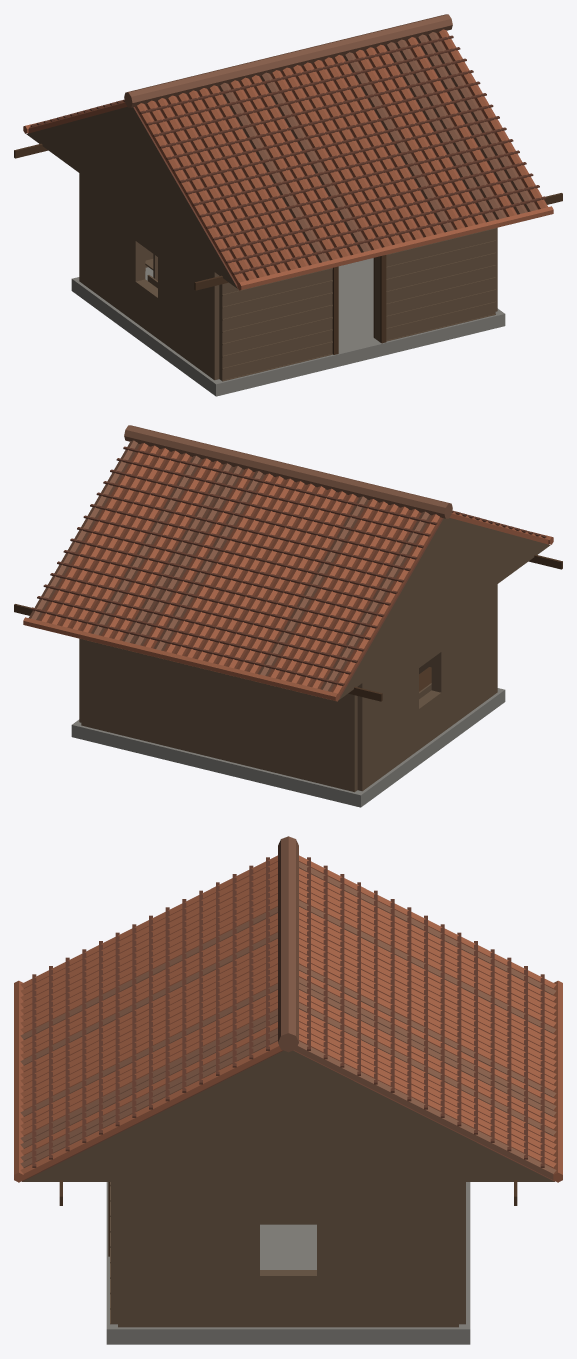
The model's file is SM_Kulube_2.fbx.
3 renders of one model, top to bottom at view 1: azimuth 30°, elevation 25°; view 2: azimuth 150°, elevation 25°; view 3: azimuth 270°, elevation 25°, orthographic. The views are drawn at different scales.
Parts seen in each view (by area): view 1: Kulube_2; view 2: Kulube_2; view 3: Kulube_2.
Boxes of the visible parts, x1,y1,x2,y2 form: Kulube_2: [14, 14, 562, 396]; Kulube_2: [14, 425, 562, 807]; Kulube_2: [14, 836, 562, 1344].
Size of the model in its own units: 940 by 624 by 967.
